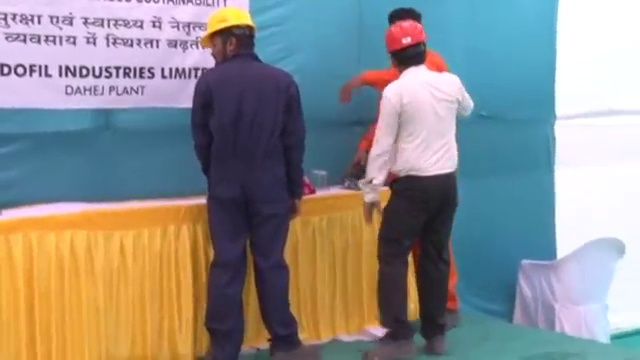helmet: (201, 7, 257, 47), (384, 21, 428, 51)
helmet_on: (200, 7, 257, 61), (384, 20, 429, 72)
person: (189, 6, 316, 360), (364, 21, 474, 360)
